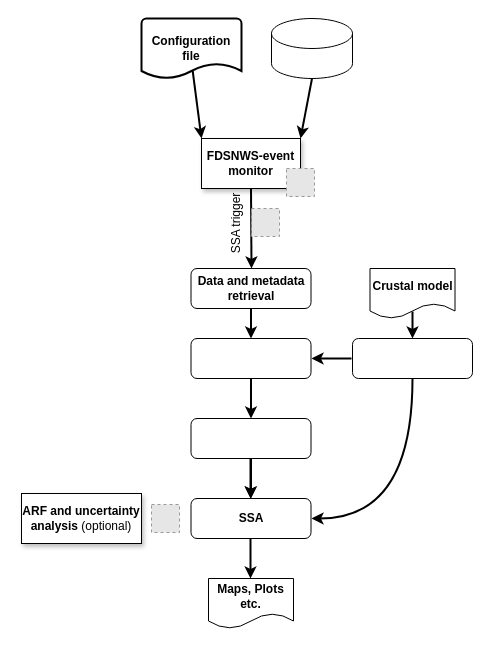
This 490x646 diagram has some shape labels left out. Grey dashed boxes stand in for pictures. The centre of each missing label's shape, as x and y in pixels:
FDSNWS servises: (x=311, y=48)
Traveltime tables calculation: (x=412, y=358)
Waveforms processing: (x=250, y=438)
Waveforms selection: (x=250, y=358)
